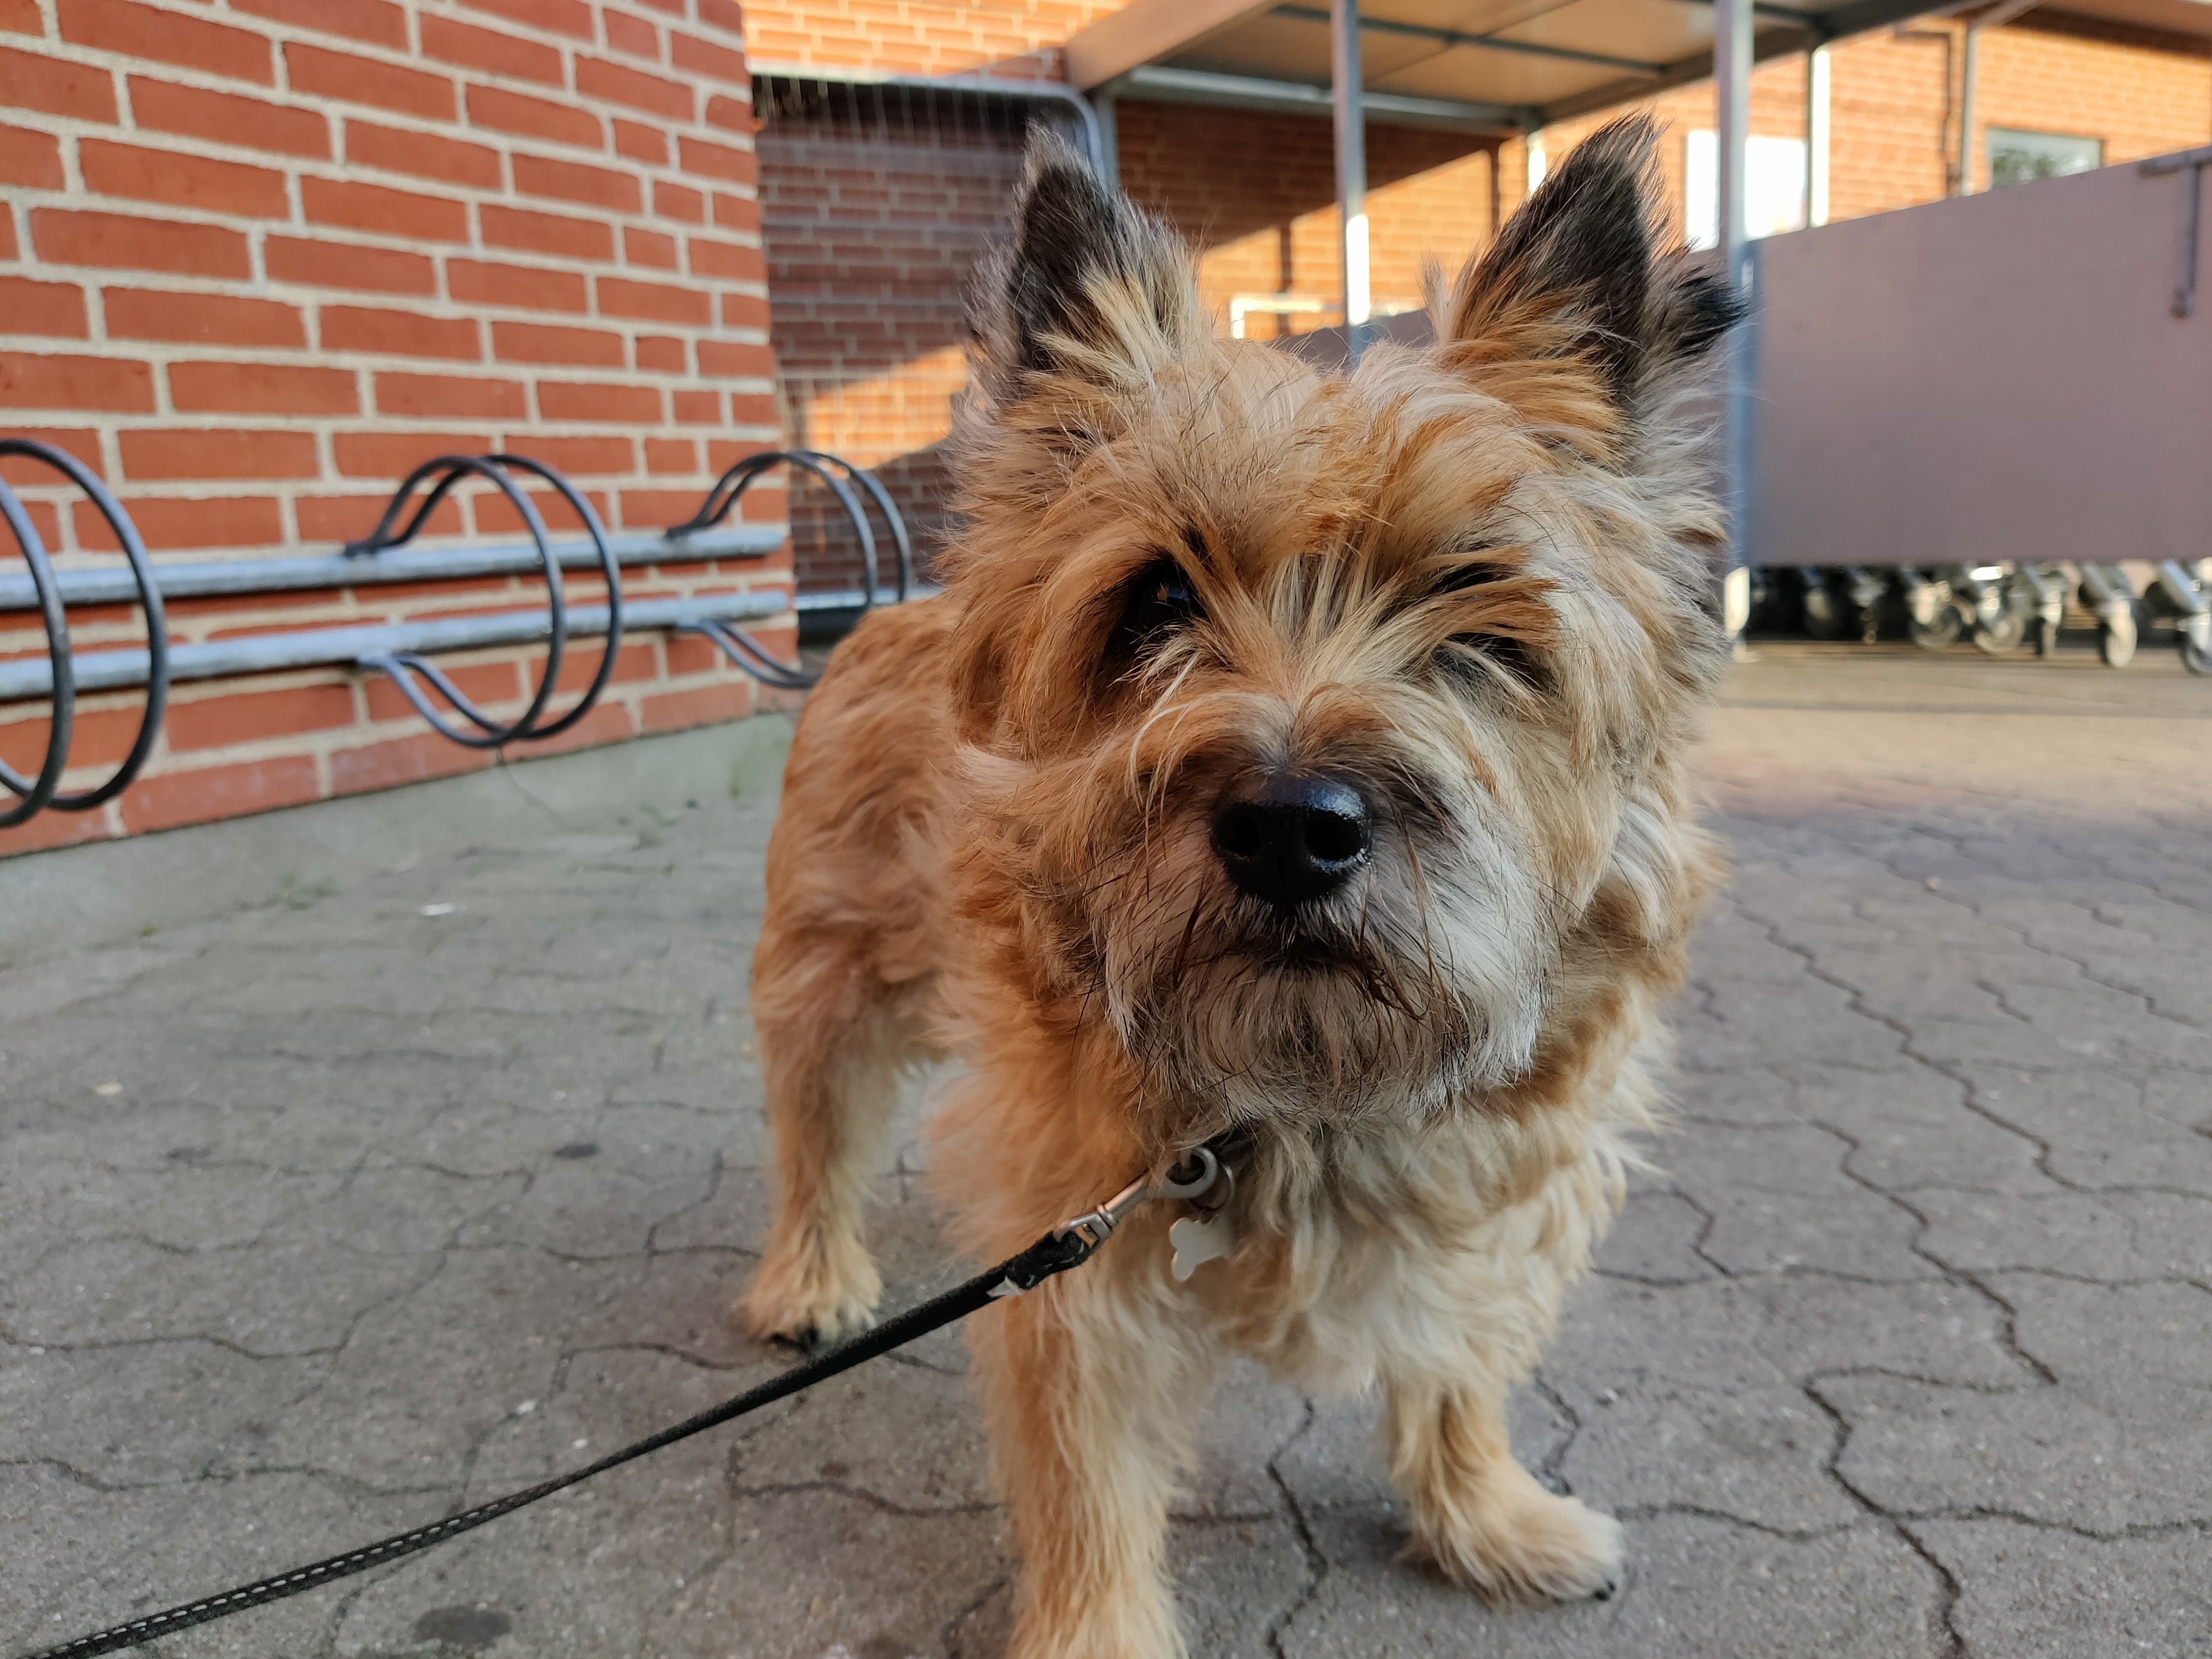Dog: (726, 98, 1763, 1659)
